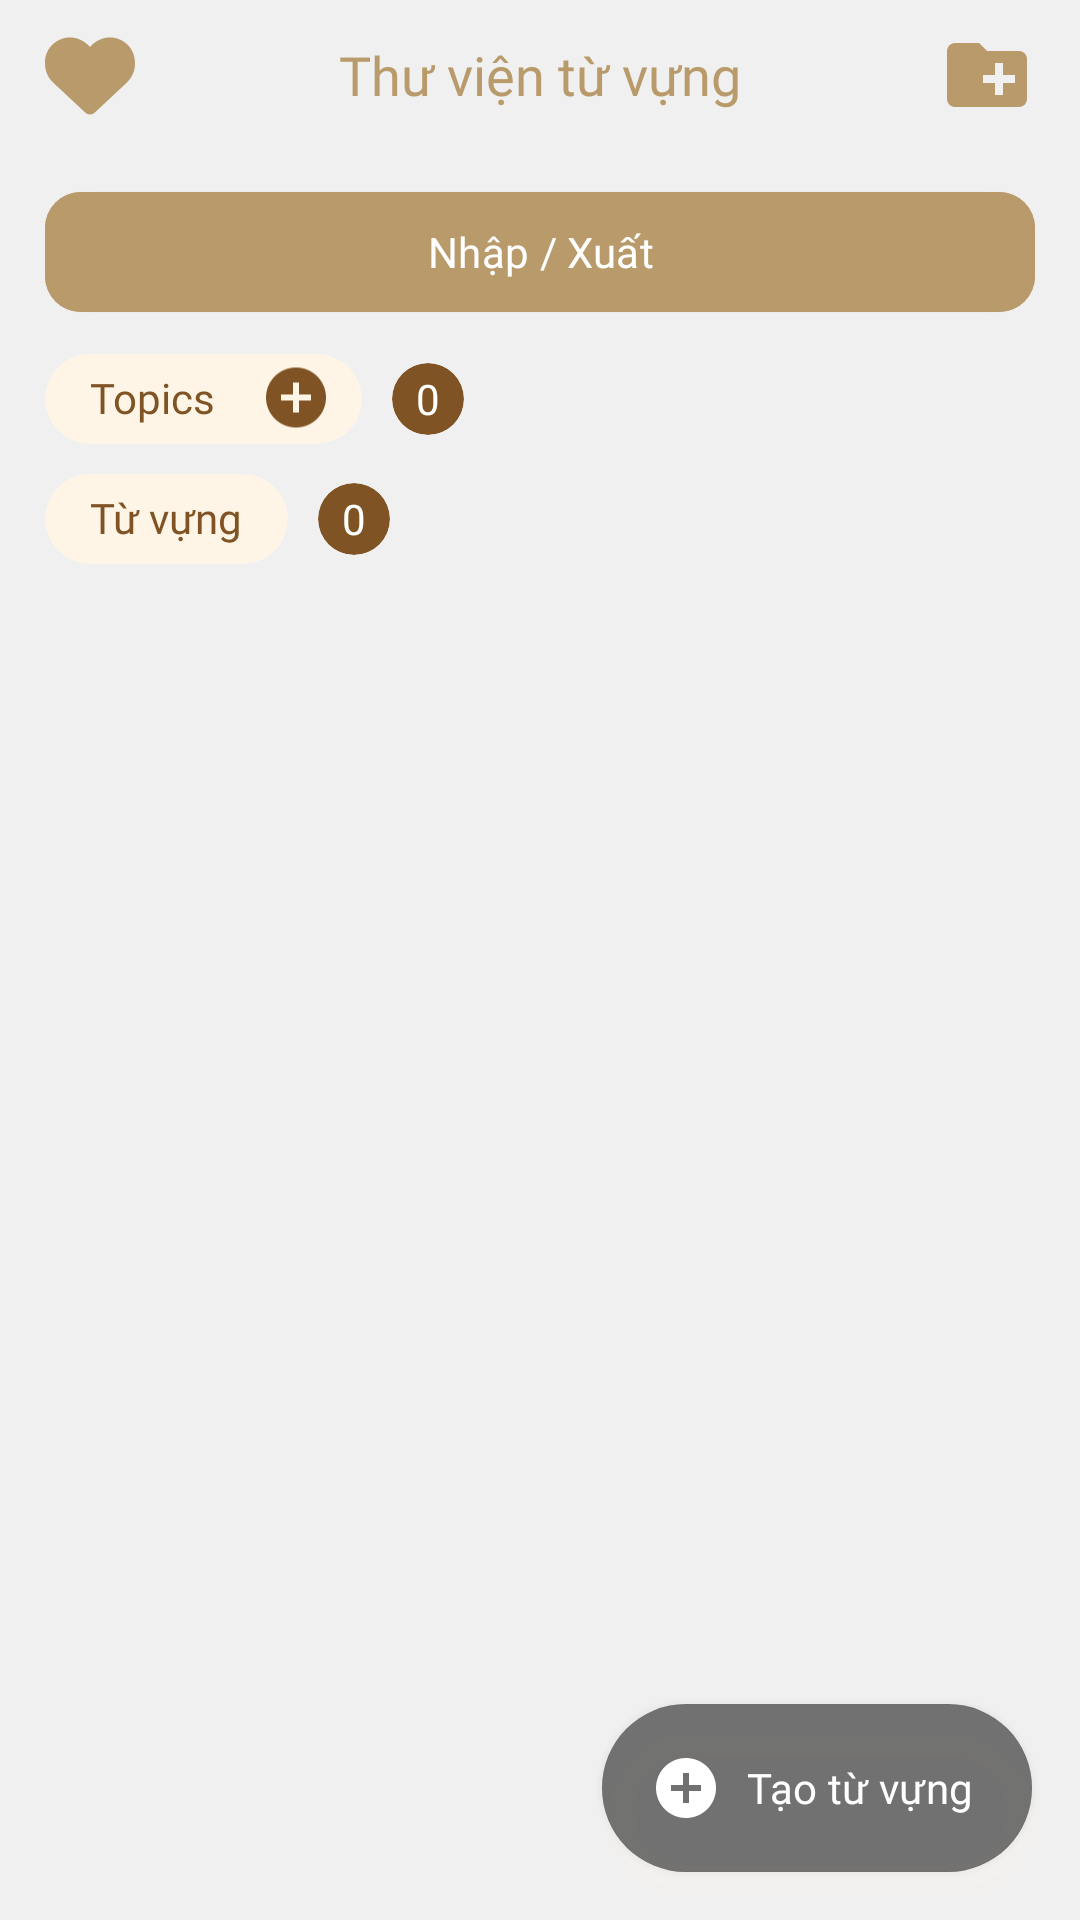

Locate icon controls on the screen. Image size 1080*1920, boxes as (x1, y1, x2, y2).
add circle: (266, 367, 326, 428)
create folder: (947, 43, 1027, 107)
